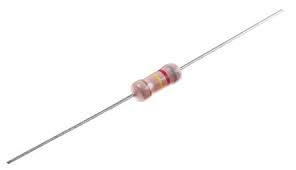resistor: (117, 49, 192, 112)
